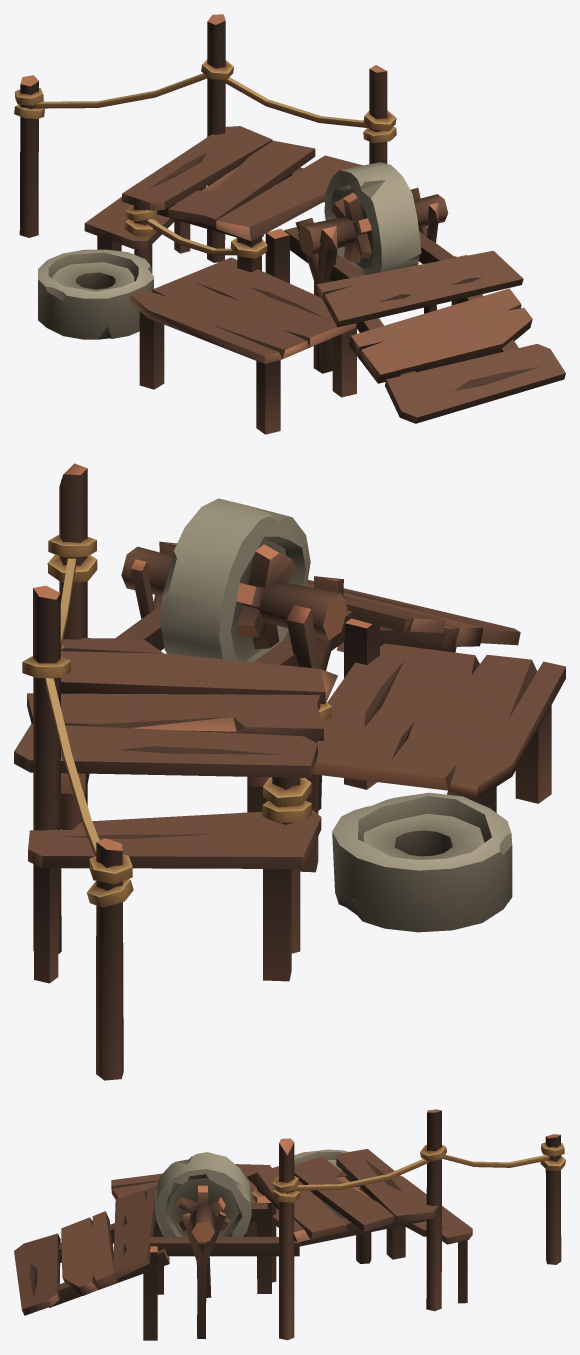
File: Workbench_1B.fbx
The picture shows the model from 3 angles, top to bottom: view 1: azimuth 30°, elevation 25°; view 2: azimuth 150°, elevation 25°; view 3: azimuth 270°, elevation 25°; orthographic projection. The views are drawn at different scales.
Visible parts, largest first — view 1: Workbench_1B, Workbench_1B_Wheel; view 2: Workbench_1B, Workbench_1B_Wheel; view 3: Workbench_1B, Workbench_1B_Wheel.
Boxes of the visible parts, x1,y1,x2,y2 form: Workbench_1B: (14,14,565,434); Workbench_1B_Wheel: (298,162,448,274); Workbench_1B: (14,463,565,1080); Workbench_1B_Wheel: (121,498,347,662); Workbench_1B: (14,1109,565,1340); Workbench_1B_Wheel: (155,1152,251,1241).
Size of the model in its own units: 406 by 269 by 679.
